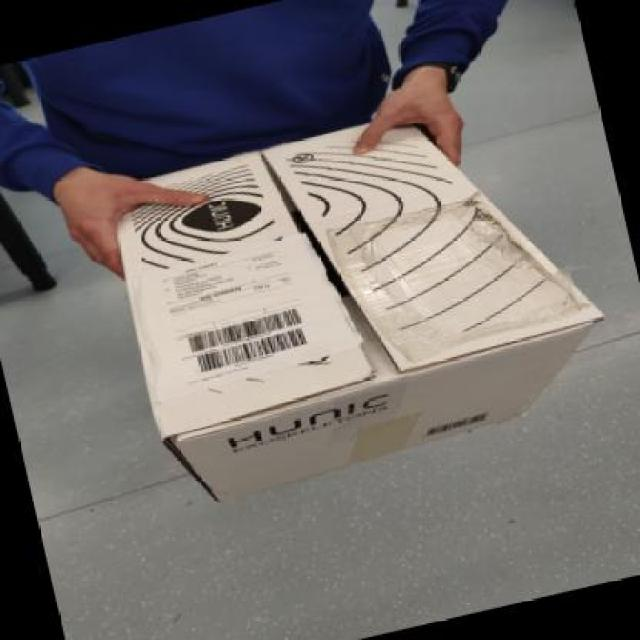box: (51, 45, 634, 527)
